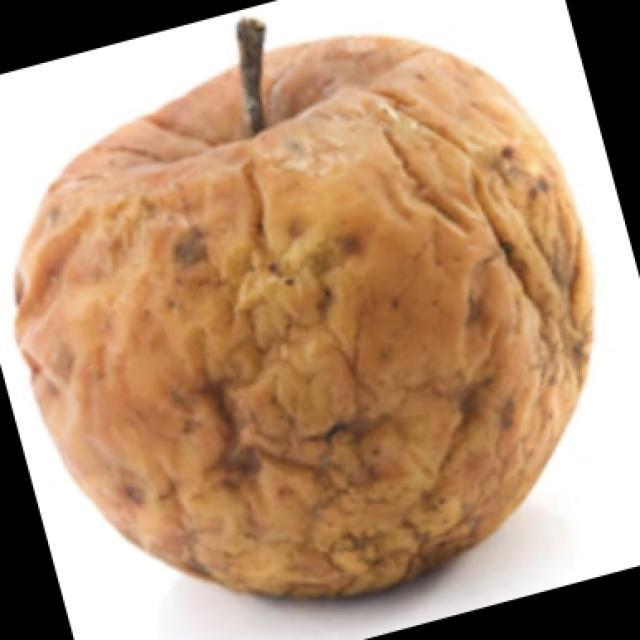Rotten: (5, 30, 595, 602)
